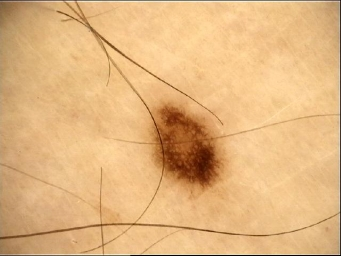melanoma: (156, 107, 221, 187)
